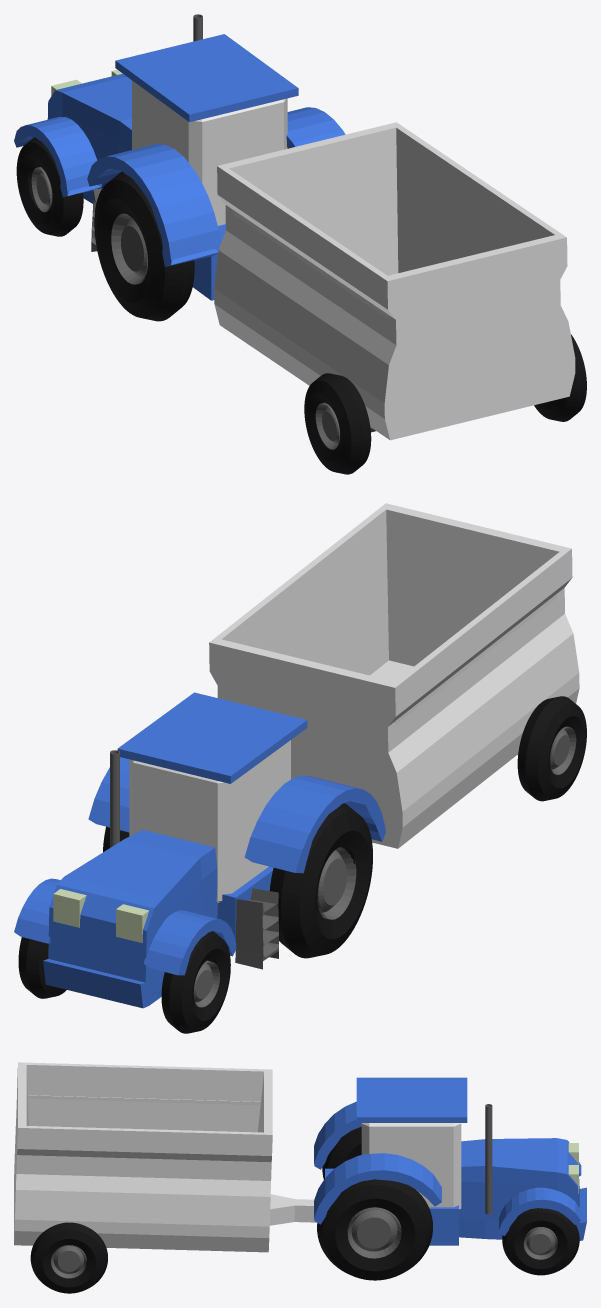
Rendered from Tractor_Trailer.fbx.
3 renders of one model, top to bottom at view 1: azimuth 30°, elevation 25°; view 2: azimuth 150°, elevation 25°; view 3: azimuth 270°, elevation 25°, orthographic. The views are drawn at different scales.
Parts seen in each view (by area): view 1: Cube.002, Cab Roof, Cab Glass, mudflap 2, back tyre passenger side, Hood, front tyre passenger side.002, front tyre passenger side, mudflap 2.002, Cylinder.001, mudflap 2.001, front tyre passenger side.003 (+3 smaller); view 2: Cube.002, Hood, Cab Glass, Cab Roof, back tyre passenger side, mudflap 2, front tyre passenger side.002, front tyre passenger side, mudflap 2.002, Cube, Cylinder.001, mudflap 2.003 (+8 smaller); view 3: Cube.002, Hood, Back tyre driver's side, Cab Roof, Cab Glass, mudflap 2.001, front tyre passenger side.003, front tyre passenger side.001, Cylinder, mudflap 2.003, mudflap 2, Cube.001 (+4 smaller).
Part boxes in pixels (x1=…): Cube.002: x1=214, y1=122, x2=575, y2=440; Cab Roof: x1=115, y1=34, x2=298, y2=122; Cab Glass: x1=132, y1=80, x2=287, y2=225; mudflap 2: x1=87, y1=144, x2=221, y2=266; back tyre passenger side: x1=94, y1=171, x2=194, y2=321; Hood: x1=47, y1=73, x2=131, y2=203; front tyre passenger side.002: x1=304, y1=373, x2=371, y2=474; front tyre passenger side: x1=16, y1=137, x2=83, y2=236; mudflap 2.002: x1=14, y1=116, x2=101, y2=197; Cylinder.001: x1=111, y1=213, x2=147, y2=284; mudflap 2.001: x1=286, y1=107, x2=345, y2=148; front tyre passenger side.003: x1=534, y1=334, x2=586, y2=421; Cube.002: x1=209, y1=503, x2=579, y2=848; Hood: x1=43, y1=829, x2=217, y2=1008; Cab Glass: x1=129, y1=740, x2=290, y2=902; Cab Roof: x1=117, y1=692, x2=307, y2=783; back tyre passenger side: x1=269, y1=803, x2=372, y2=958; mudflap 2: x1=244, y1=775, x2=385, y2=873; front tyre passenger side.002: x1=517, y1=696, x2=586, y2=801; front tyre passenger side: x1=161, y1=931, x2=230, y2=1033; mudflap 2.002: x1=143, y1=910, x2=236, y2=975; Cube: x1=235, y1=888, x2=278, y2=969; Cylinder.001: x1=317, y1=847, x2=356, y2=919; mudflap 2.003: x1=14, y1=878, x2=60, y2=943; Cube.002: x1=14, y1=1062, x2=316, y2=1252; Hood: x1=459, y1=1138, x2=586, y2=1240; Back tyre driver's side: x1=317, y1=1179, x2=432, y2=1280; Cab Roof: x1=356, y1=1077, x2=467, y2=1122; Cab Glass: x1=361, y1=1123, x2=461, y2=1210; mudflap 2.001: x1=314, y1=1153, x2=441, y2=1224; front tyre passenger side.003: x1=30, y1=1222, x2=107, y2=1293; front tyre passenger side.001: x1=502, y1=1208, x2=579, y2=1275; Cylinder: x1=347, y1=1207, x2=401, y2=1258; mudflap 2.003: x1=499, y1=1187, x2=581, y2=1236; mudflap 2: x1=314, y1=1101, x2=361, y2=1169; Cube.001: x1=325, y1=1168, x2=458, y2=1245.
Bounding box in the file's own units: 440 × 372 × 1200.
